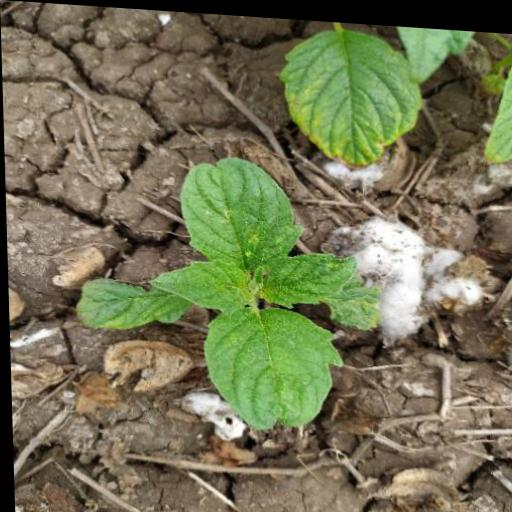crop: (64, 152, 392, 434)
